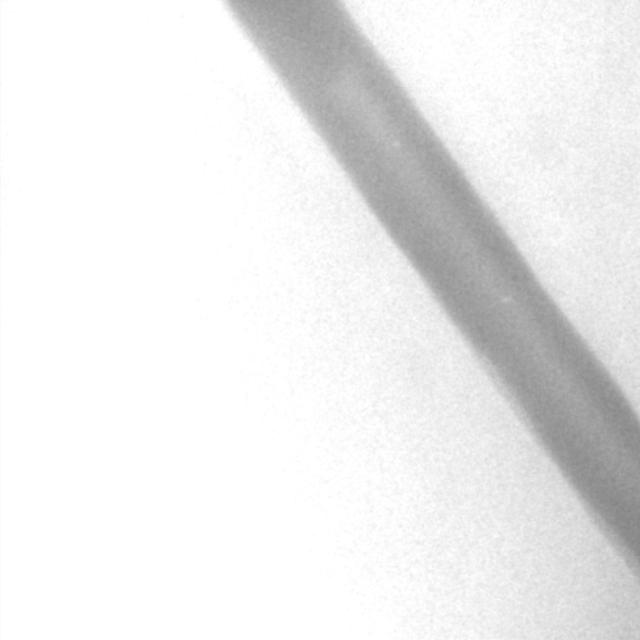air hole: (497, 290, 514, 306), (389, 134, 403, 151)
